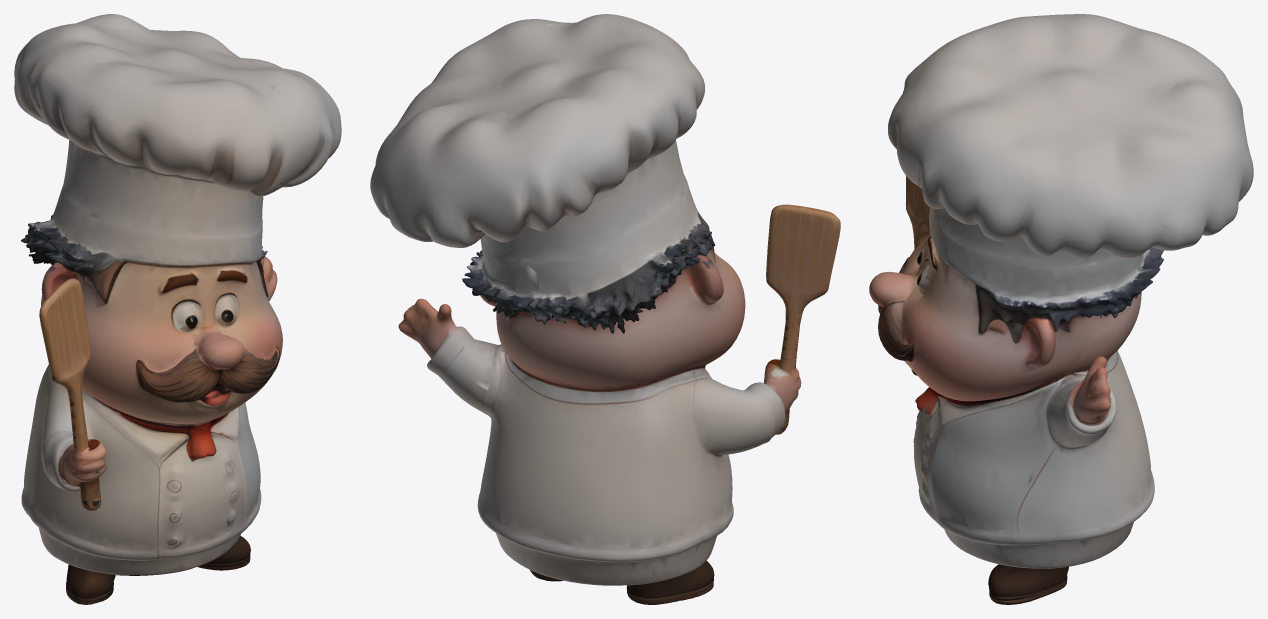
File: romantex_63.glb
3 renders of one model, left to right at view 1: azimuth 30°, elevation 25°; view 2: azimuth 150°, elevation 25°; view 3: azimuth 270°, elevation 25°, orthographic. The views are drawn at different scales.
Visible parts, largest first — view 1: texture_v130_hdr_21w_pbr_dino_11w.001; view 2: texture_v130_hdr_21w_pbr_dino_11w.001; view 3: texture_v130_hdr_21w_pbr_dino_11w.001.
Boxes of the visible parts, left/top/right/bottom form: texture_v130_hdr_21w_pbr_dino_11w.001: left=14, top=14, right=341, bottom=604; texture_v130_hdr_21w_pbr_dino_11w.001: left=370, top=14, right=840, bottom=604; texture_v130_hdr_21w_pbr_dino_11w.001: left=869, top=14, right=1253, bottom=604.
Size of the model in its own units: 1.4 by 2 by 1.33.
1 material, 1 textured.
